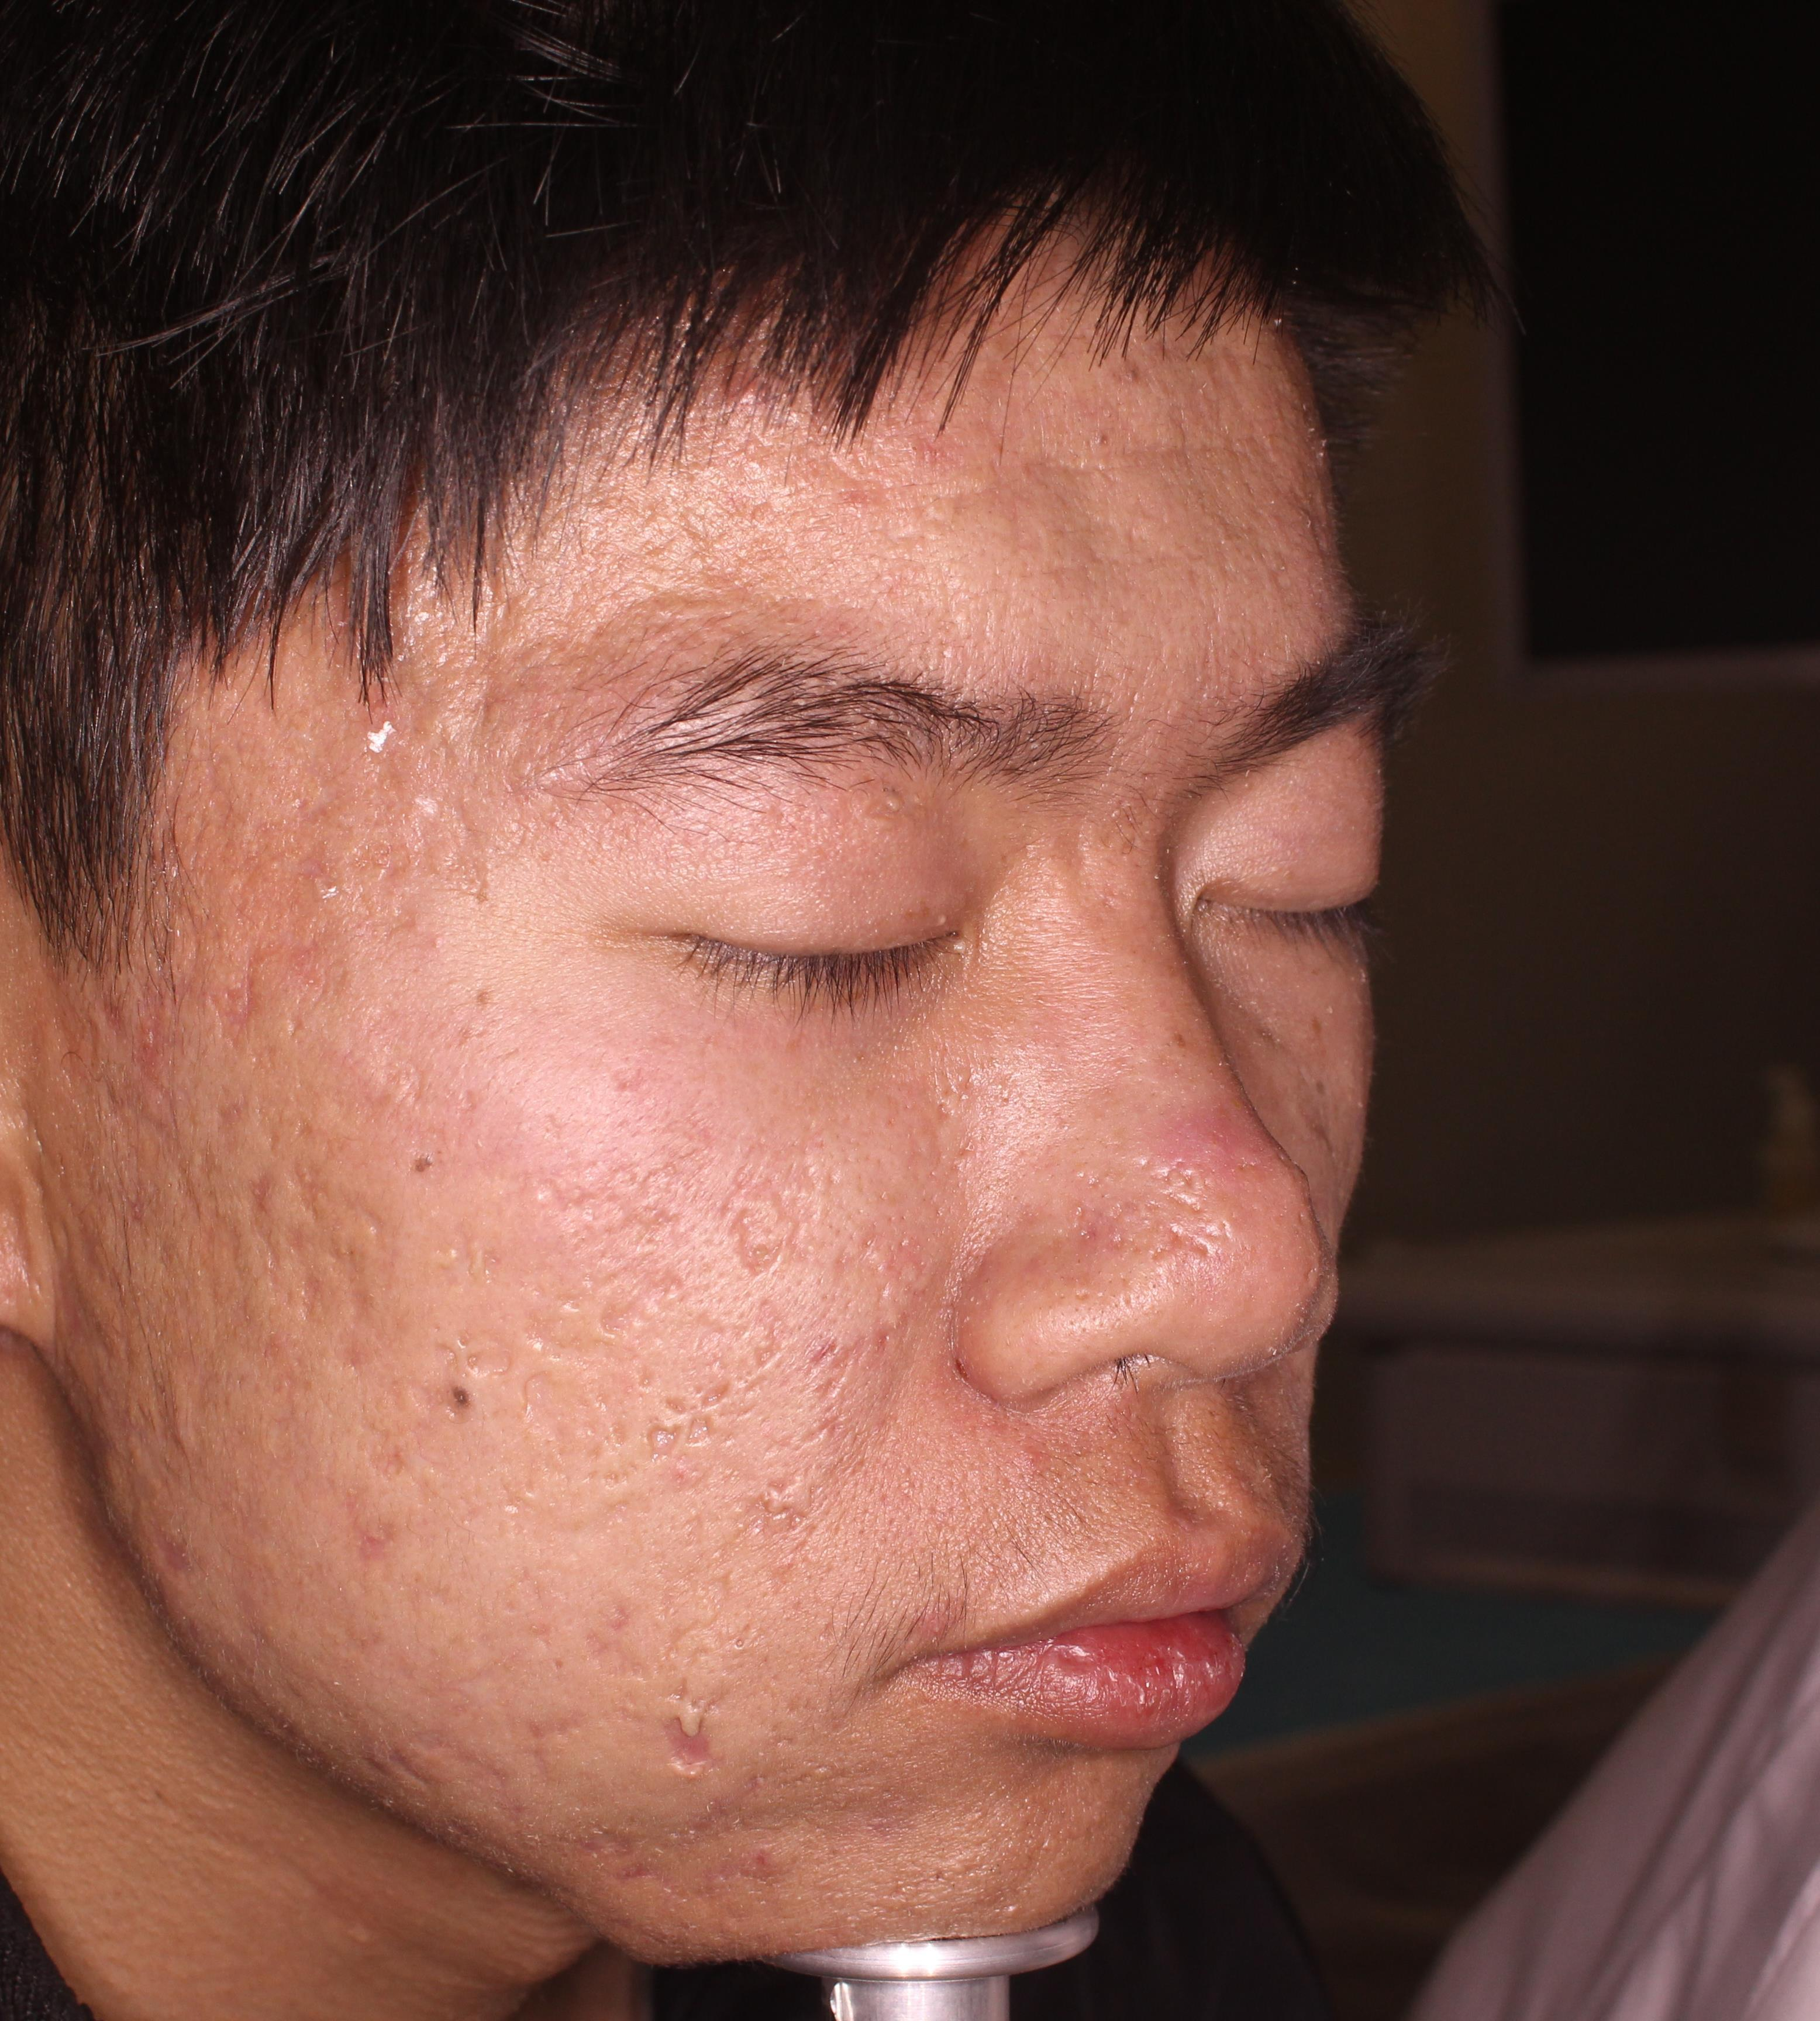fore: (1166, 1069, 1256, 1226), (655, 1684, 736, 1782)
